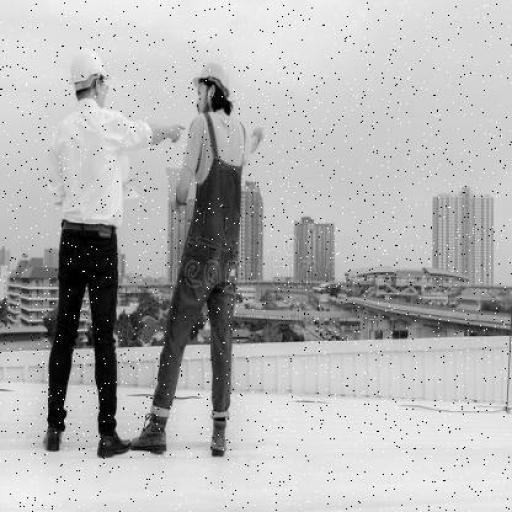person: (28, 44, 181, 464), (134, 60, 272, 480)
safety_shoe: (135, 413, 167, 456), (206, 420, 232, 462), (98, 432, 132, 463), (45, 421, 63, 450)
